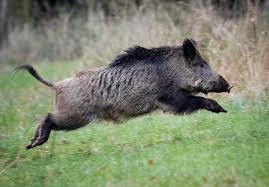boar: (15, 38, 234, 150)
